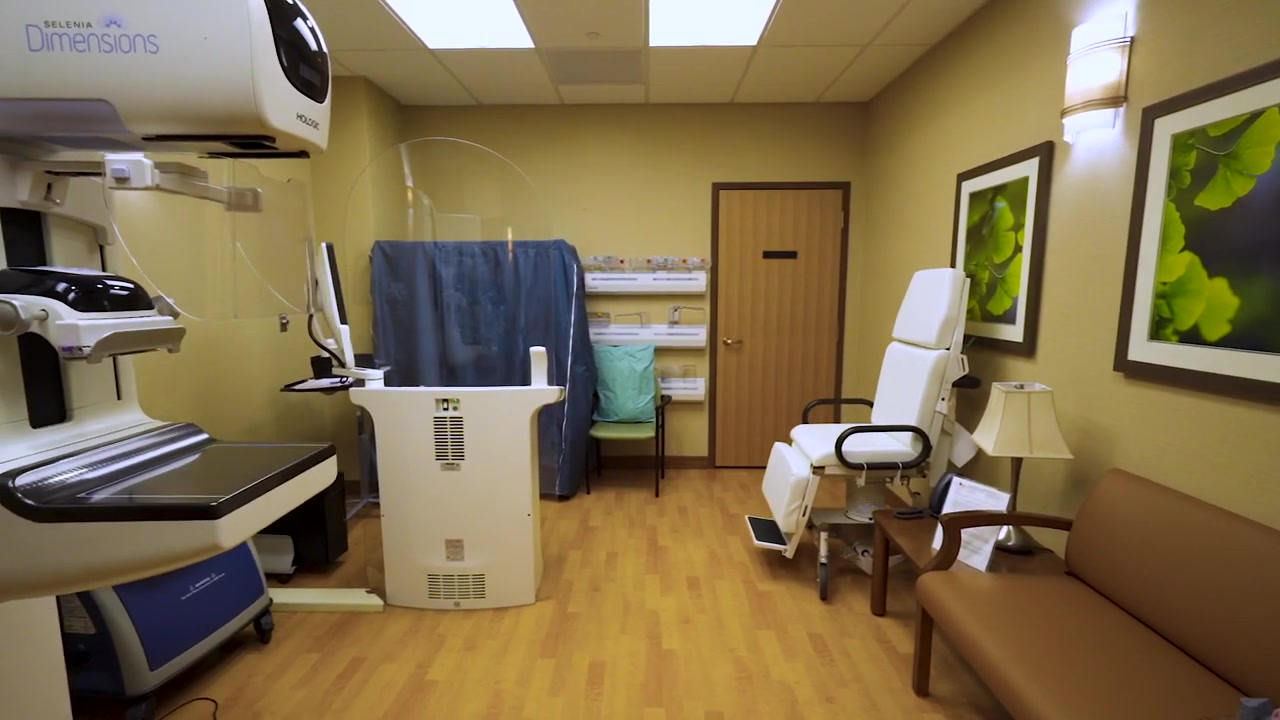bedrail: (833, 424, 932, 468), (800, 396, 873, 427)
chair: (586, 342, 671, 498)
door_handle: (722, 337, 744, 347)
exam_table: (747, 269, 977, 594)
sofa: (913, 470, 1280, 720)
table: (870, 502, 1063, 617)
